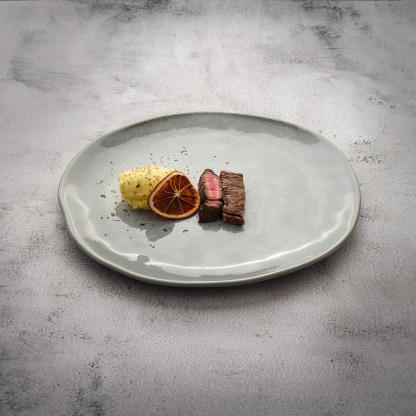Carne: (220, 168, 246, 228), (197, 168, 221, 223)
